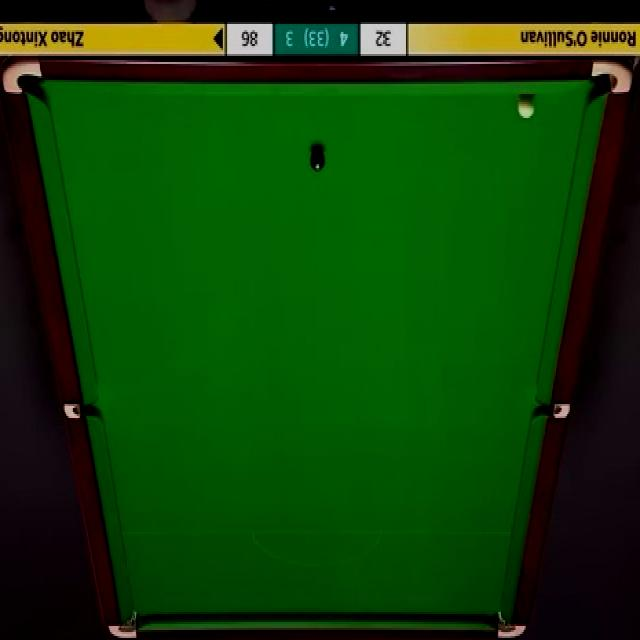pocket: (0, 56, 43, 98), (591, 60, 633, 95), (495, 606, 528, 640), (110, 608, 141, 640), (64, 400, 101, 422), (535, 405, 573, 420)
